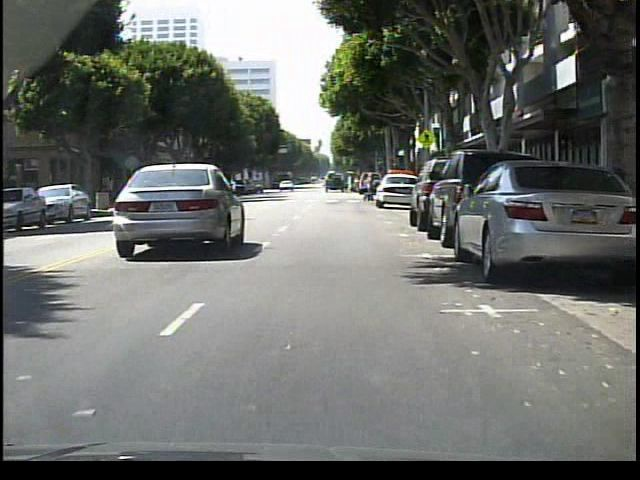person: (362, 172, 377, 202), (351, 171, 352, 191)
